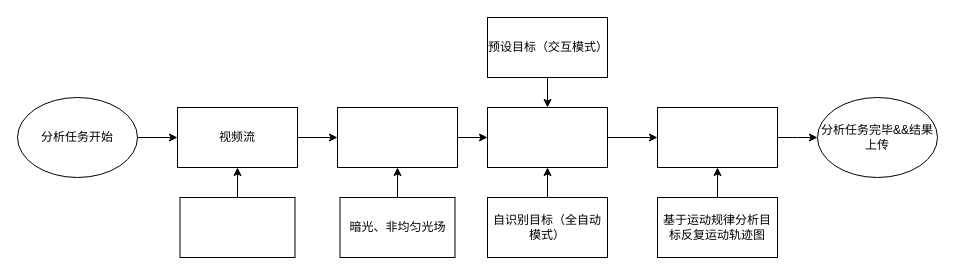
Some shapes in this 955 by 275 pixel diagram are drawn without their labels. Here are the shapes that lost their labels. From the top down, the centre of each, then its label:
(x=397, y=137): 图像增强
(x=547, y=137): 目标检测和跟踪算法
(x=717, y=137): 钻杆运动轨迹分析算法
(x=237, y=227): 视频解码转换
